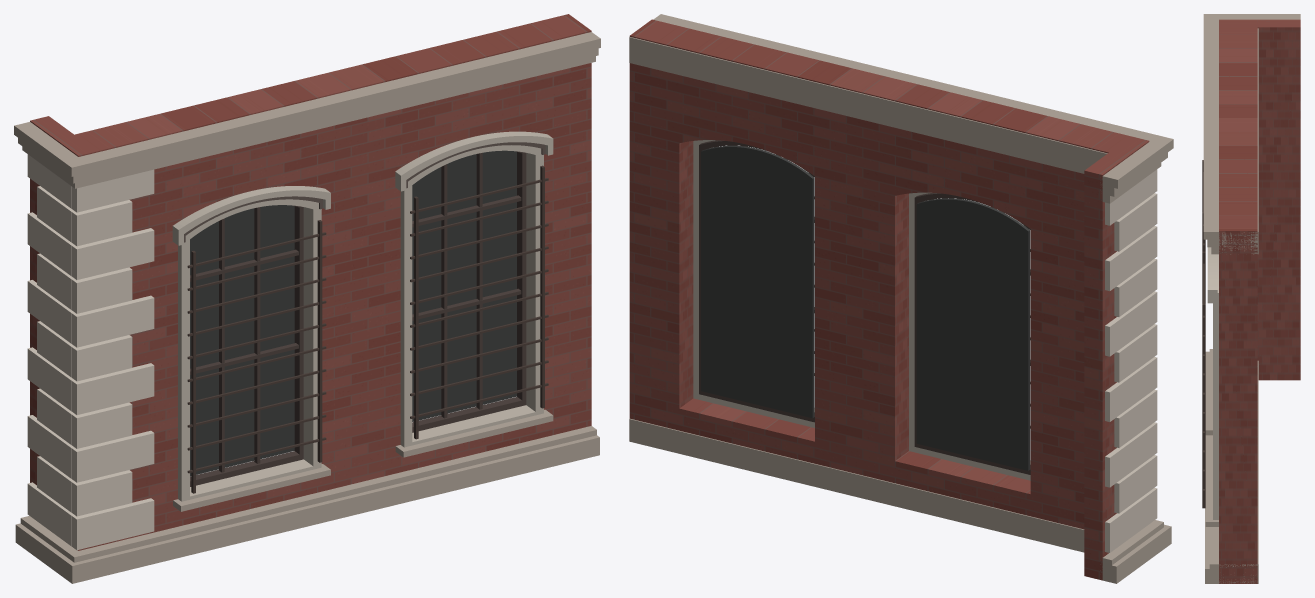
Rendered from huangpu-metropole-east-wing-brick-window-pair-web.glb.
3 renders of one model, left to right at view 1: azimuth 30°, elevation 25°; view 2: azimuth 150°, elevation 25°; view 3: azimuth 270°, elevation 25°, orthographic. The views are drawn at different scales.
Visible parts, largest first — view 1: 都城饭店东楼福州路双色墙角与双券窗; view 2: 都城饭店东楼福州路双色墙角与双券窗; view 3: 都城饭店东楼福州路双色墙角与双券窗.
Part boxes in pixels (x1,y1,x2,y2): 都城饭店东楼福州路双色墙角与双券窗: (14,14,600,583); 都城饭店东楼福州路双色墙角与双券窗: (629,14,1173,583); 都城饭店东楼福州路双色墙角与双券窗: (1202,14,1300,583).
Bounding box in the file's own units: 4.81 × 3.63 × 0.916.
Materials: 8 (1 with a texture image).
